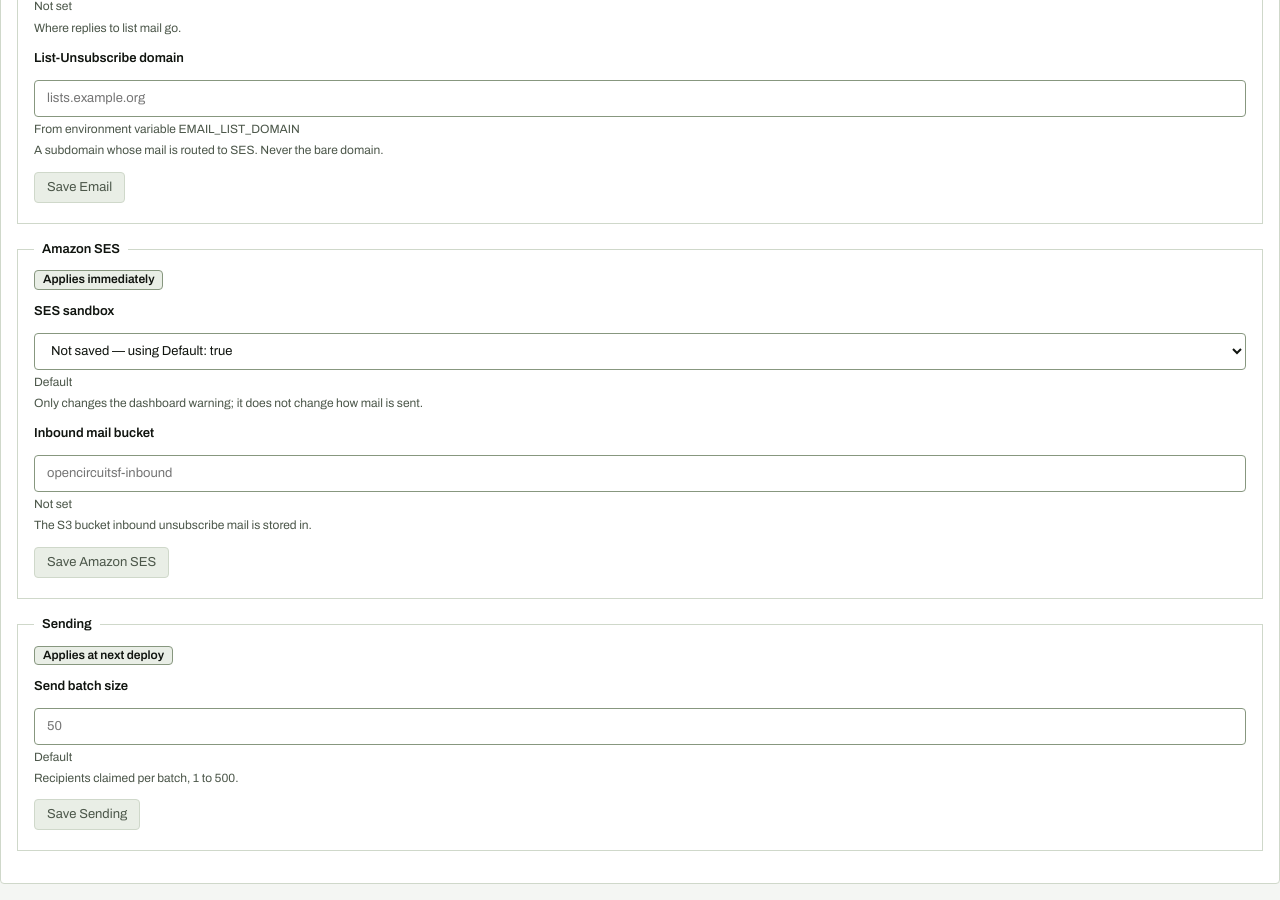
Scenario: ServerSettings › disables Save for an out-of-range batch size
(page scrolled)
Expected: the text "Amazon SES" is shown, [42,242,120,256]
Type "900" into the number field labelled "Send batch size" at (640, 726), box [34,708,1246,745]
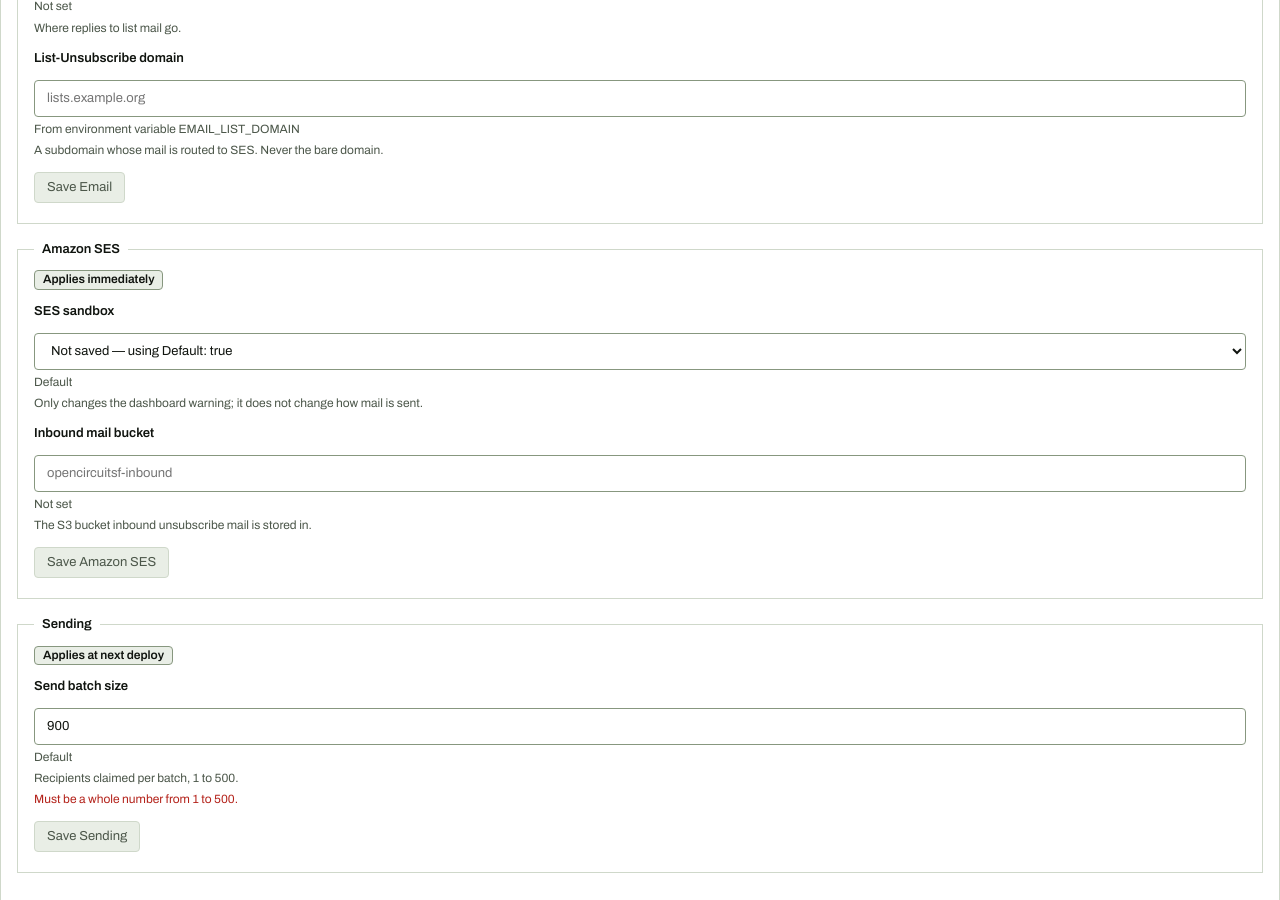
Expected: the button "Save Sending" is disabled, [34,821,140,852]
Result: the text "Must be a whole number from 1 to 500." is shown at [34,792,238,806]
